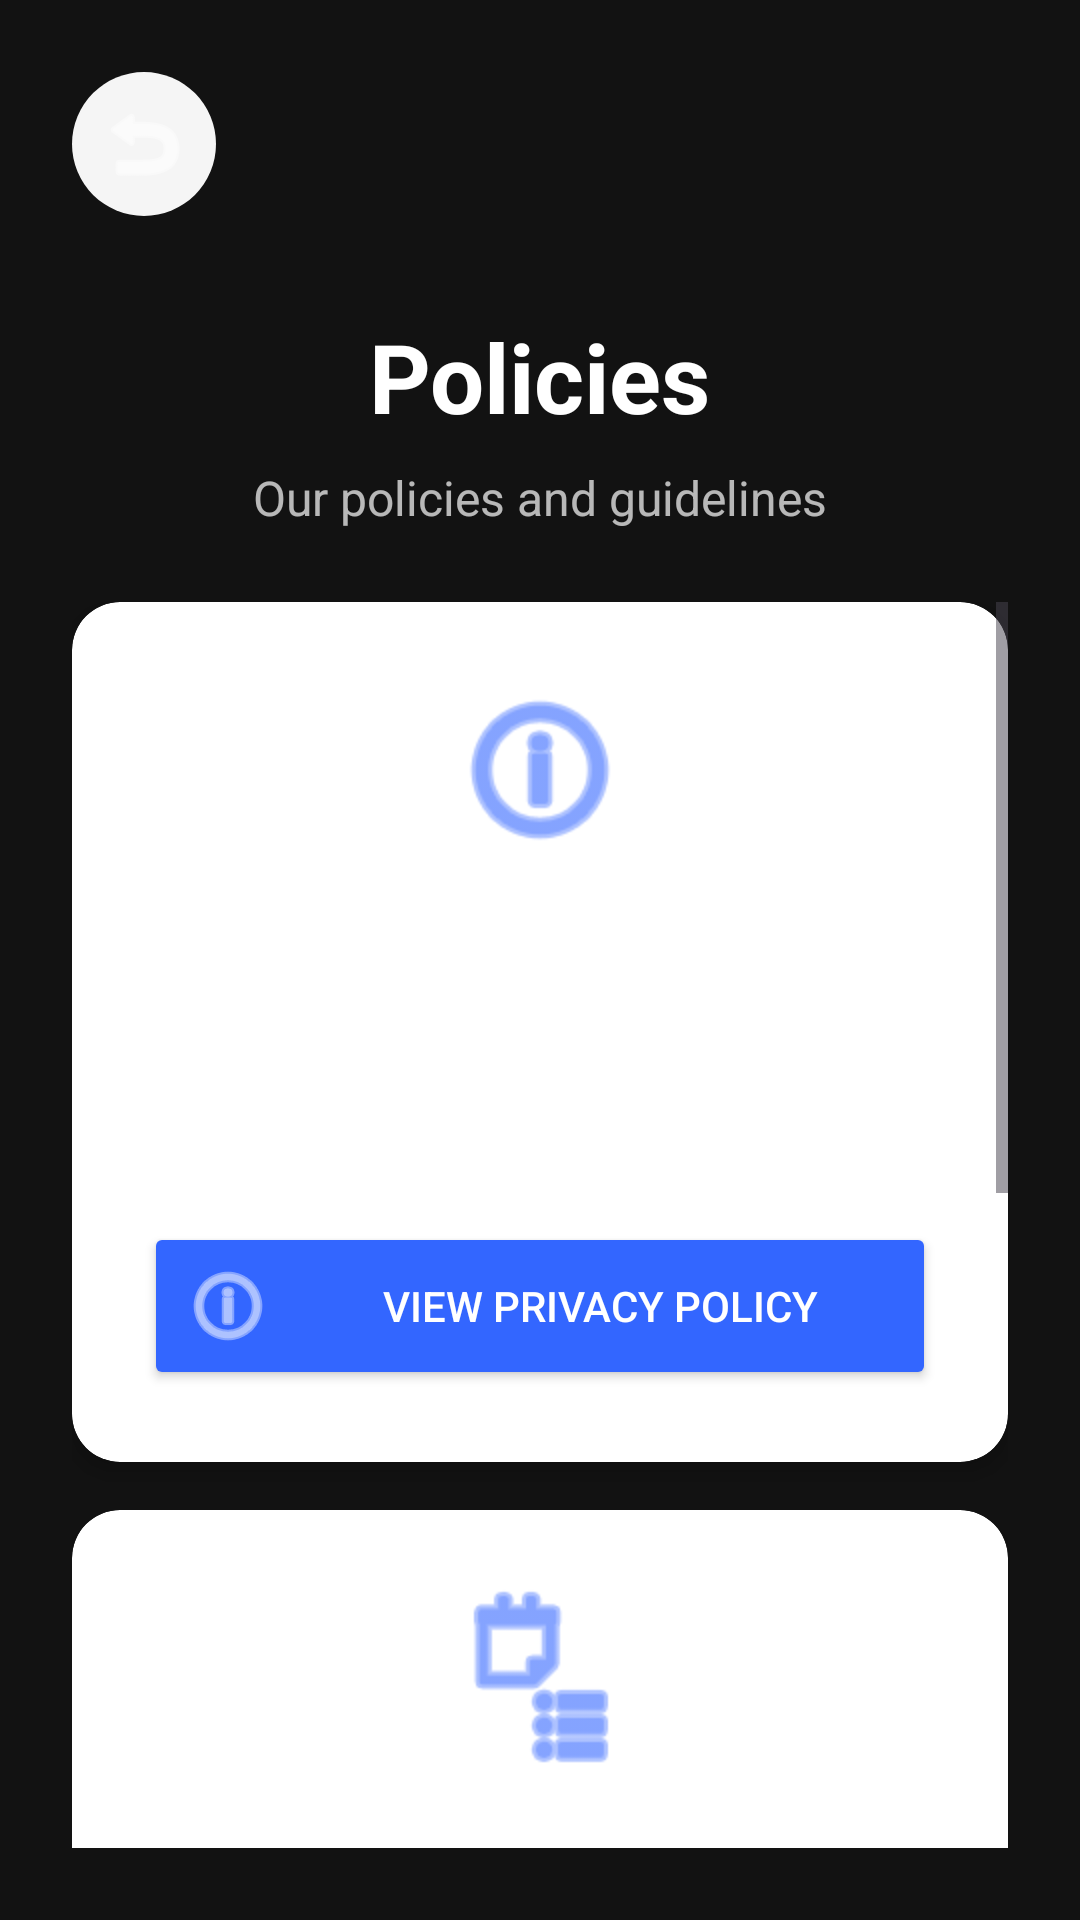

Where icons sit on this 1080×1920 app screen, as (x1, y1, x2, y2):
agenda: (474, 1592, 608, 1762)
info details: (471, 701, 609, 839)
revert: (72, 72, 216, 216)
